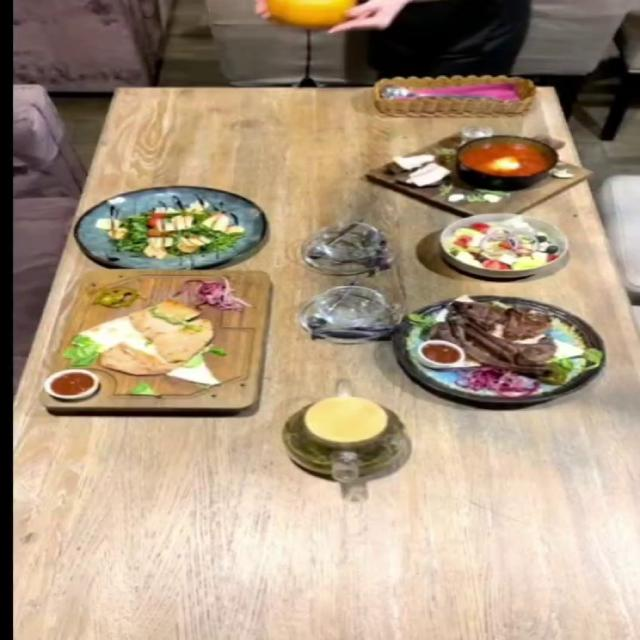meat: (390, 293, 606, 403)
salat: (72, 185, 264, 268), (442, 212, 572, 277)
soup: (366, 129, 592, 217)
tea: (280, 394, 410, 484)
